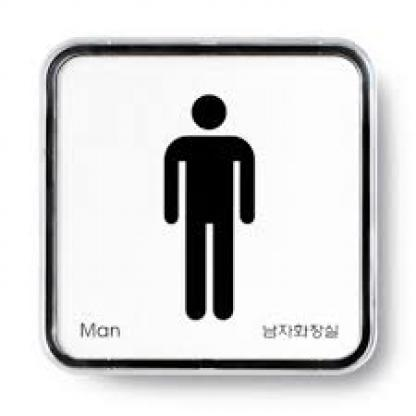toilet: (153, 85, 257, 325)
